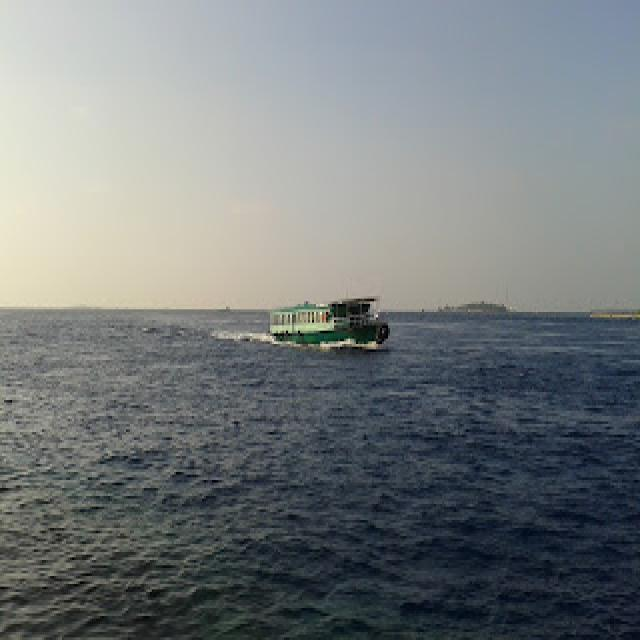houseboat: (250, 284, 387, 369)
